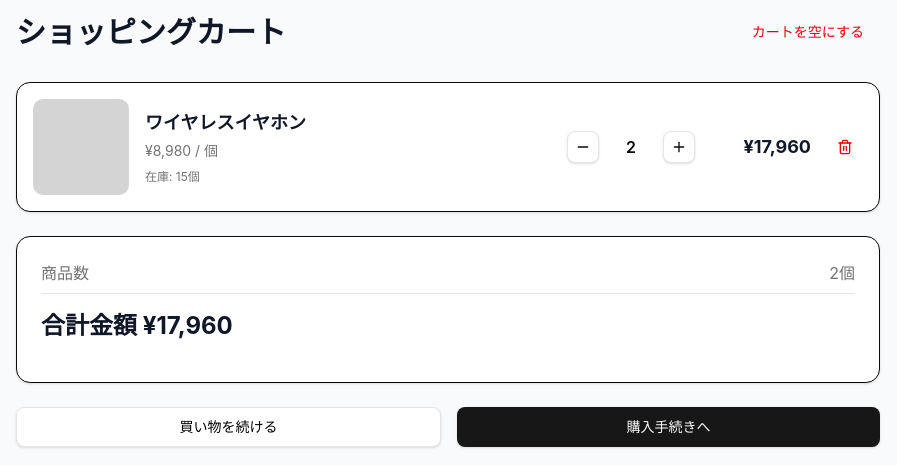
it: Cart › 削除ボタンで商品が削除される
The image size is (897, 465).
// aria-labelで削除ボタンを取得
Click the button named "削除". click: (845, 147)
box: [827,129,863,165]
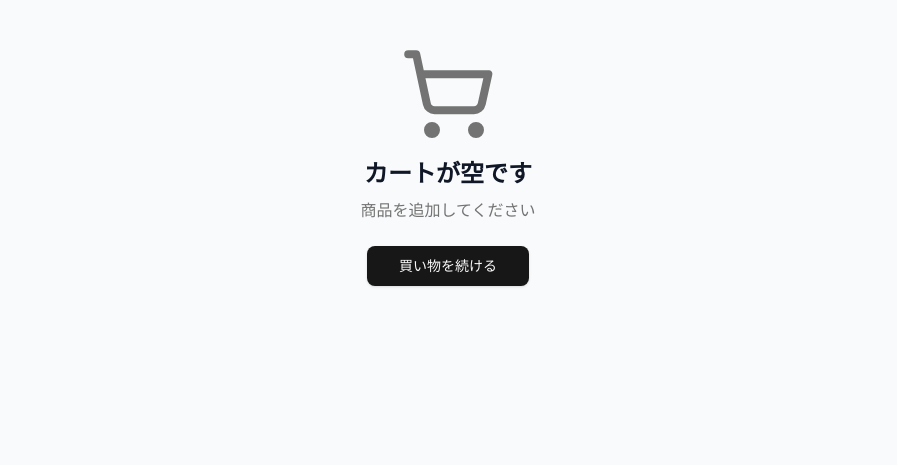
Now the heading "ワイヤレスイヤホン" is gone
Now the heading "カートが空です" is shown, box [364,159,532,188]
